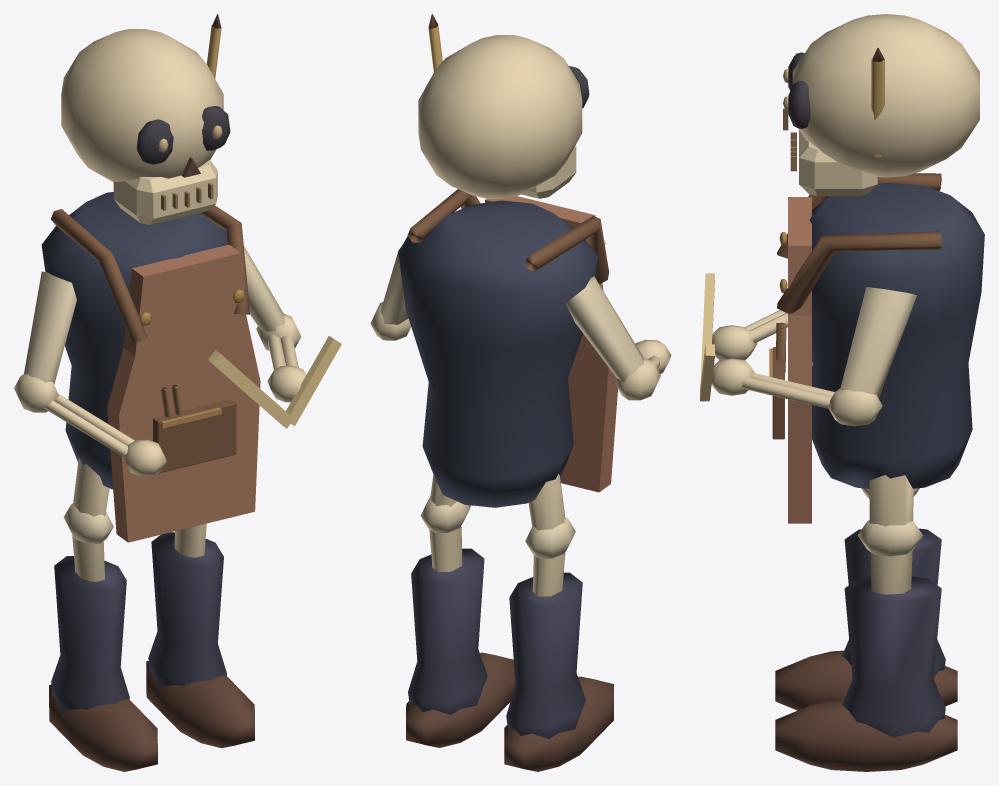
The model's file is vendor_carpenter.glb.
3 views of the same model, side by side, from view 1: azimuth 30°, elevation 25°; view 2: azimuth 150°, elevation 25°; view 3: azimuth 270°, elevation 25° (orthographic). The views are drawn at different scales.
Parts seen in each view (by area): view 1: vendor_carpenter; view 2: vendor_carpenter; view 3: vendor_carpenter.
Part boxes in pixels (x1=…): vendor_carpenter: x1=14, y1=14, x2=341, y2=771; vendor_carpenter: x1=370, y1=14, x2=671, y2=771; vendor_carpenter: x1=700, y1=14, x2=984, y2=771.
Bounding box in the file's own units: 0.7 × 1.7 × 0.6.
